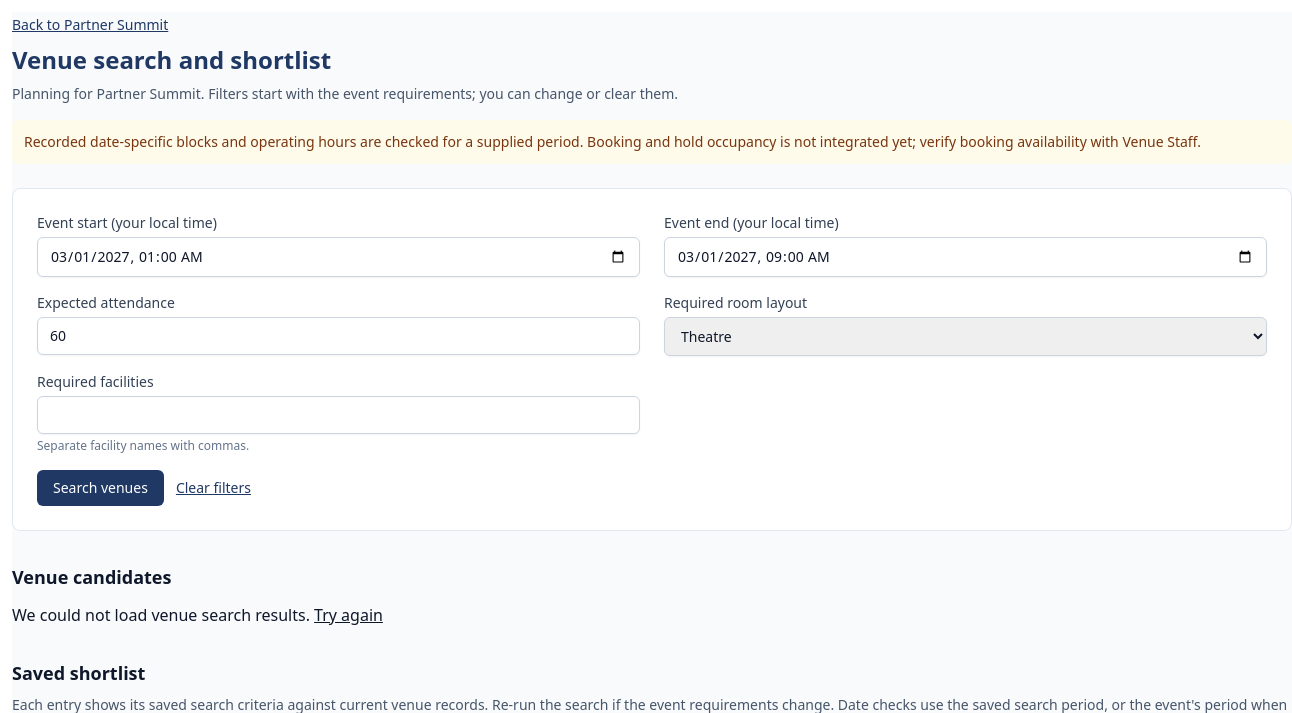
Test case: SCRUM-64/68 venue discovery › shows and retries search failures
The image size is (1292, 713).
Expected: the message shows "could not load venue search results", [12,604,310,626]
Click the button "Try again" at (348, 615), box [314,603,383,627]
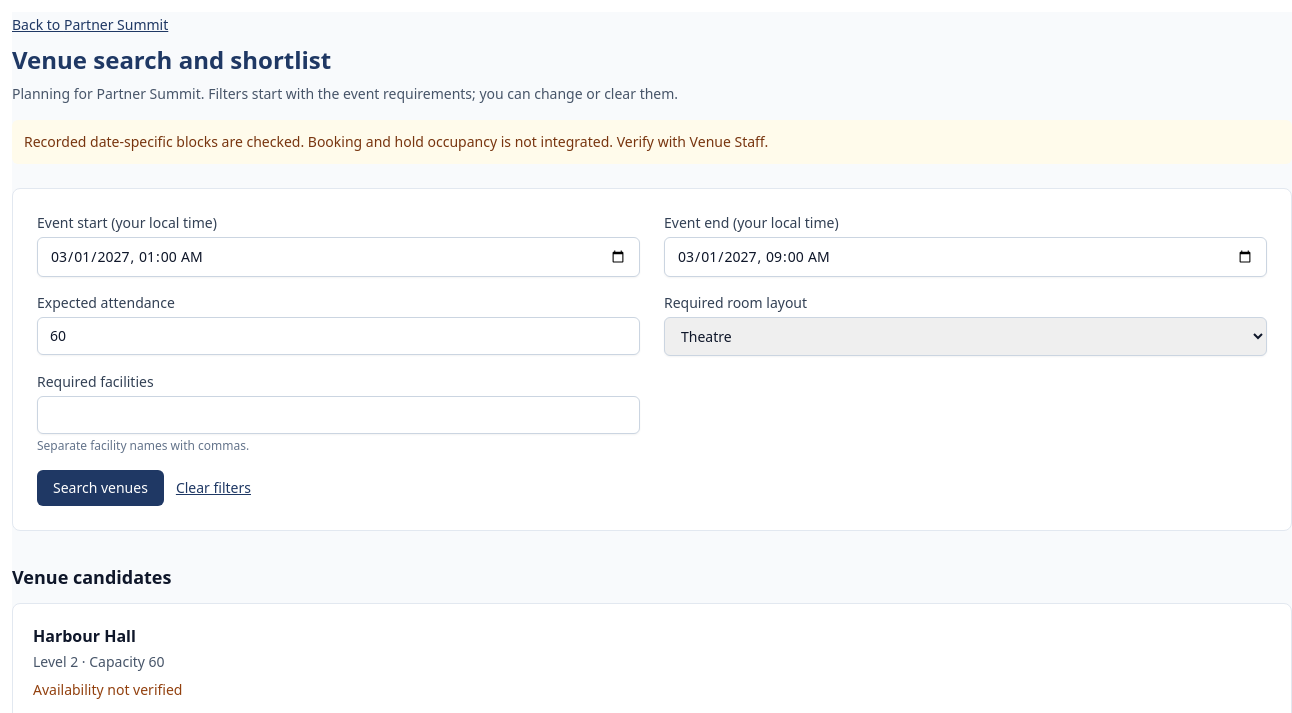
Expected: the heading "Harbour Hall" is shown, [33,625,136,647]
